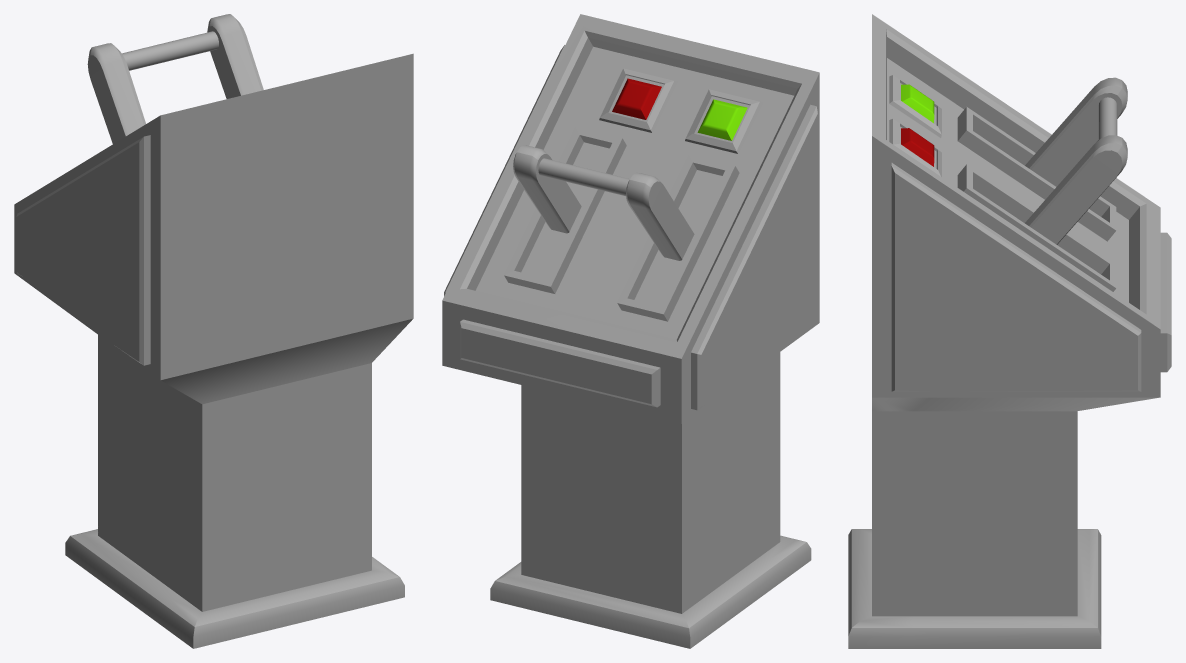
Rendered from Lever.fbx.
3 renders of one model, left to right at view 1: azimuth 30°, elevation 25°; view 2: azimuth 150°, elevation 25°; view 3: azimuth 270°, elevation 25°, orthographic. The views are drawn at different scales.
Visible parts, largest first — view 1: Lever__Peddestle, right_bar, left_bar, handle; view 2: Lever__Peddestle, right_bar, Button_for_lever1, Button_for_lever, left_bar, handle; view 3: Lever__Peddestle, left_bar, right_bar, Button_for_lever1, Button_for_lever, handle.
Part boxes in pixels (<box>): Lever__Peddestle: <box>14,53,413,648</box>; right_bar: <box>87,43,145,143</box>; left_bar: <box>207,14,263,98</box>; handle: <box>122,31,218,70</box>; Lever__Peddestle: <box>442,14,819,648</box>; right_bar: <box>626,172,694,260</box>; Button_for_lever1: <box>685,89,762,153</box>; Button_for_lever: <box>599,68,676,132</box>; left_bar: <box>513,145,581,233</box>; handle: <box>538,158,629,196</box>; Lever__Peddestle: <box>848,14,1171,648</box>; left_bar: <box>1025,135,1127,244</box>; right_bar: <box>1025,77,1127,186</box>; Button_for_lever1: <box>889,75,941,137</box>; Button_for_lever: <box>889,119,941,176</box>; handle: <box>1098,97,1117,139</box>.
Bounding box in the file's own units: 0.0108 × 0.02 × 0.0112.
